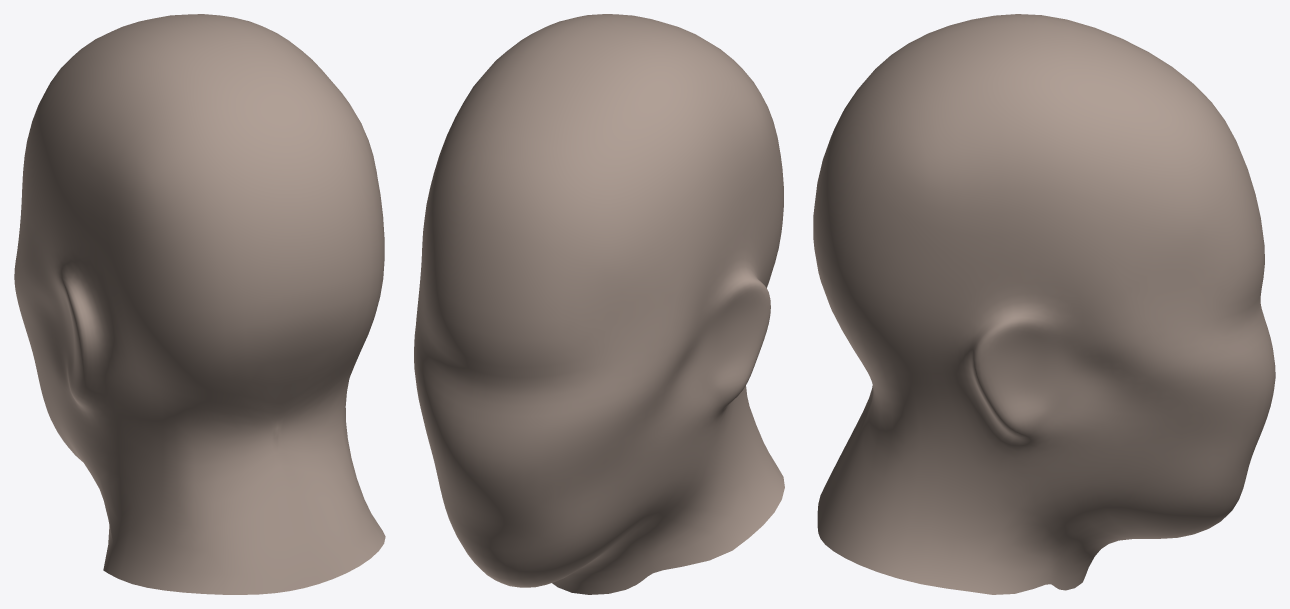
File: halfling_head.fbx
3 renders of one model, left to right at view 1: azimuth 30°, elevation 25°; view 2: azimuth 150°, elevation 25°; view 3: azimuth 270°, elevation 25°, orthographic.
Visible parts, largest first — view 1: hmm:Mesh; view 2: hmm:Mesh; view 3: hmm:Mesh.
Part boxes in pixels (x1,y1,x2,y2): hmm:Mesh: (14, 14, 385, 594); hmm:Mesh: (414, 14, 784, 594); hmm:Mesh: (813, 14, 1275, 594).
Size of the model in its own units: 0.3236 by 0.5654 by 0.4356.
